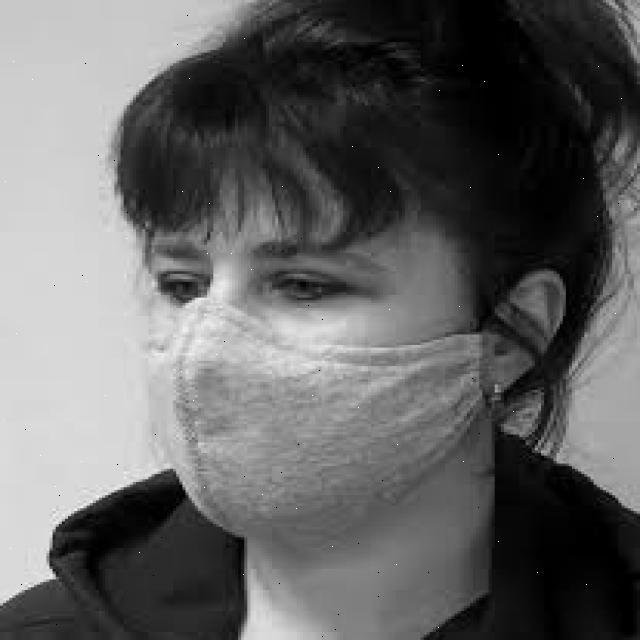fake: (70, 289, 520, 553)
real: (146, 220, 482, 555)
